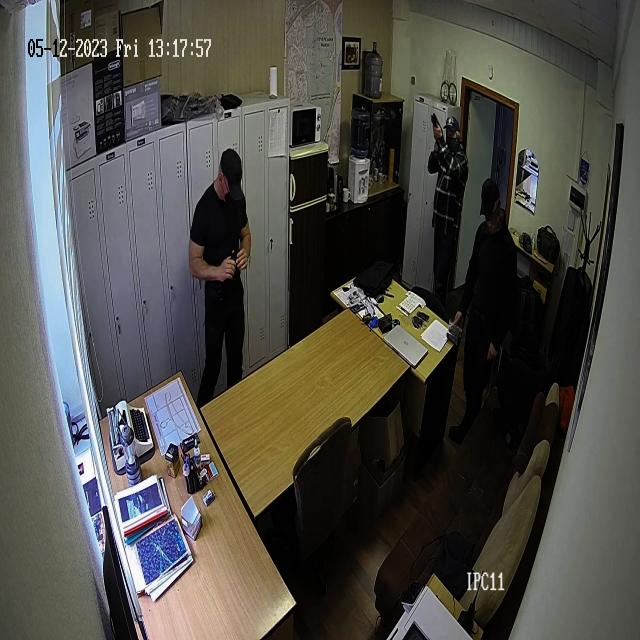gun: (448, 175, 518, 448), (188, 146, 253, 412), (427, 110, 470, 308), (430, 112, 444, 135)
